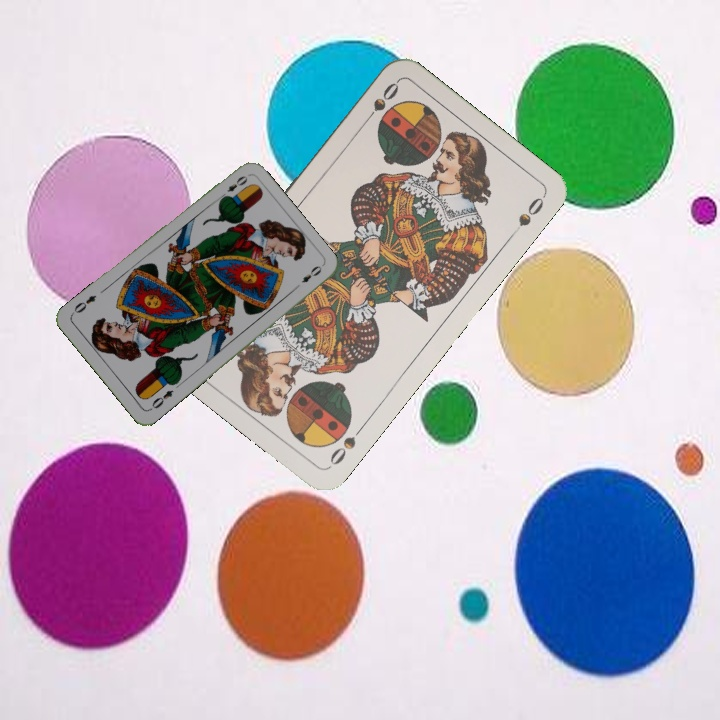EO: (216, 171, 250, 202), (146, 386, 176, 413)
SO: (359, 77, 402, 128), (325, 420, 367, 468)
